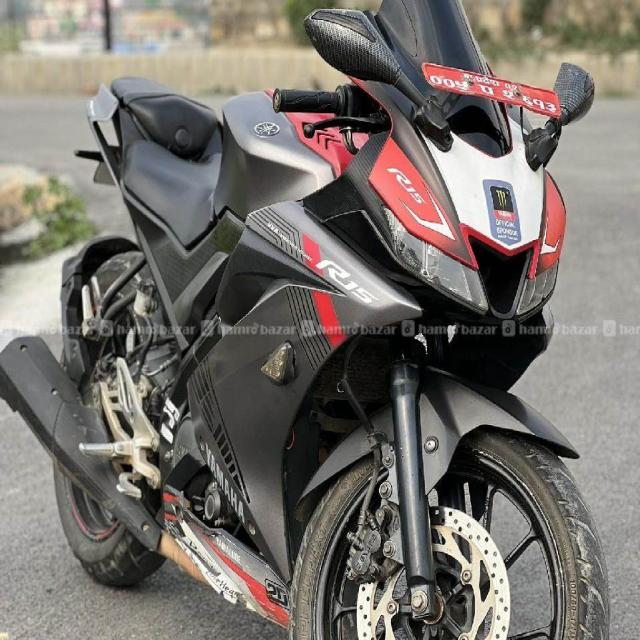License-plate: (422, 58, 562, 122)
